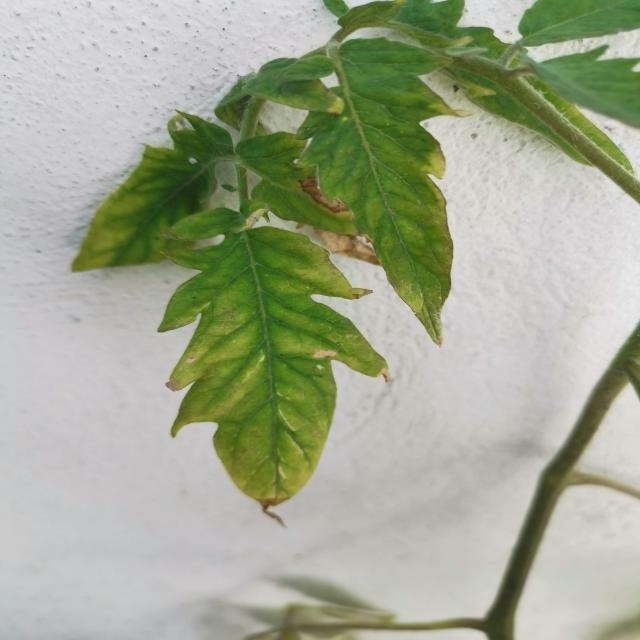T_L_R: (158, 227, 390, 531), (294, 86, 455, 349), (73, 147, 214, 272), (342, 37, 475, 118), (243, 58, 345, 116)
